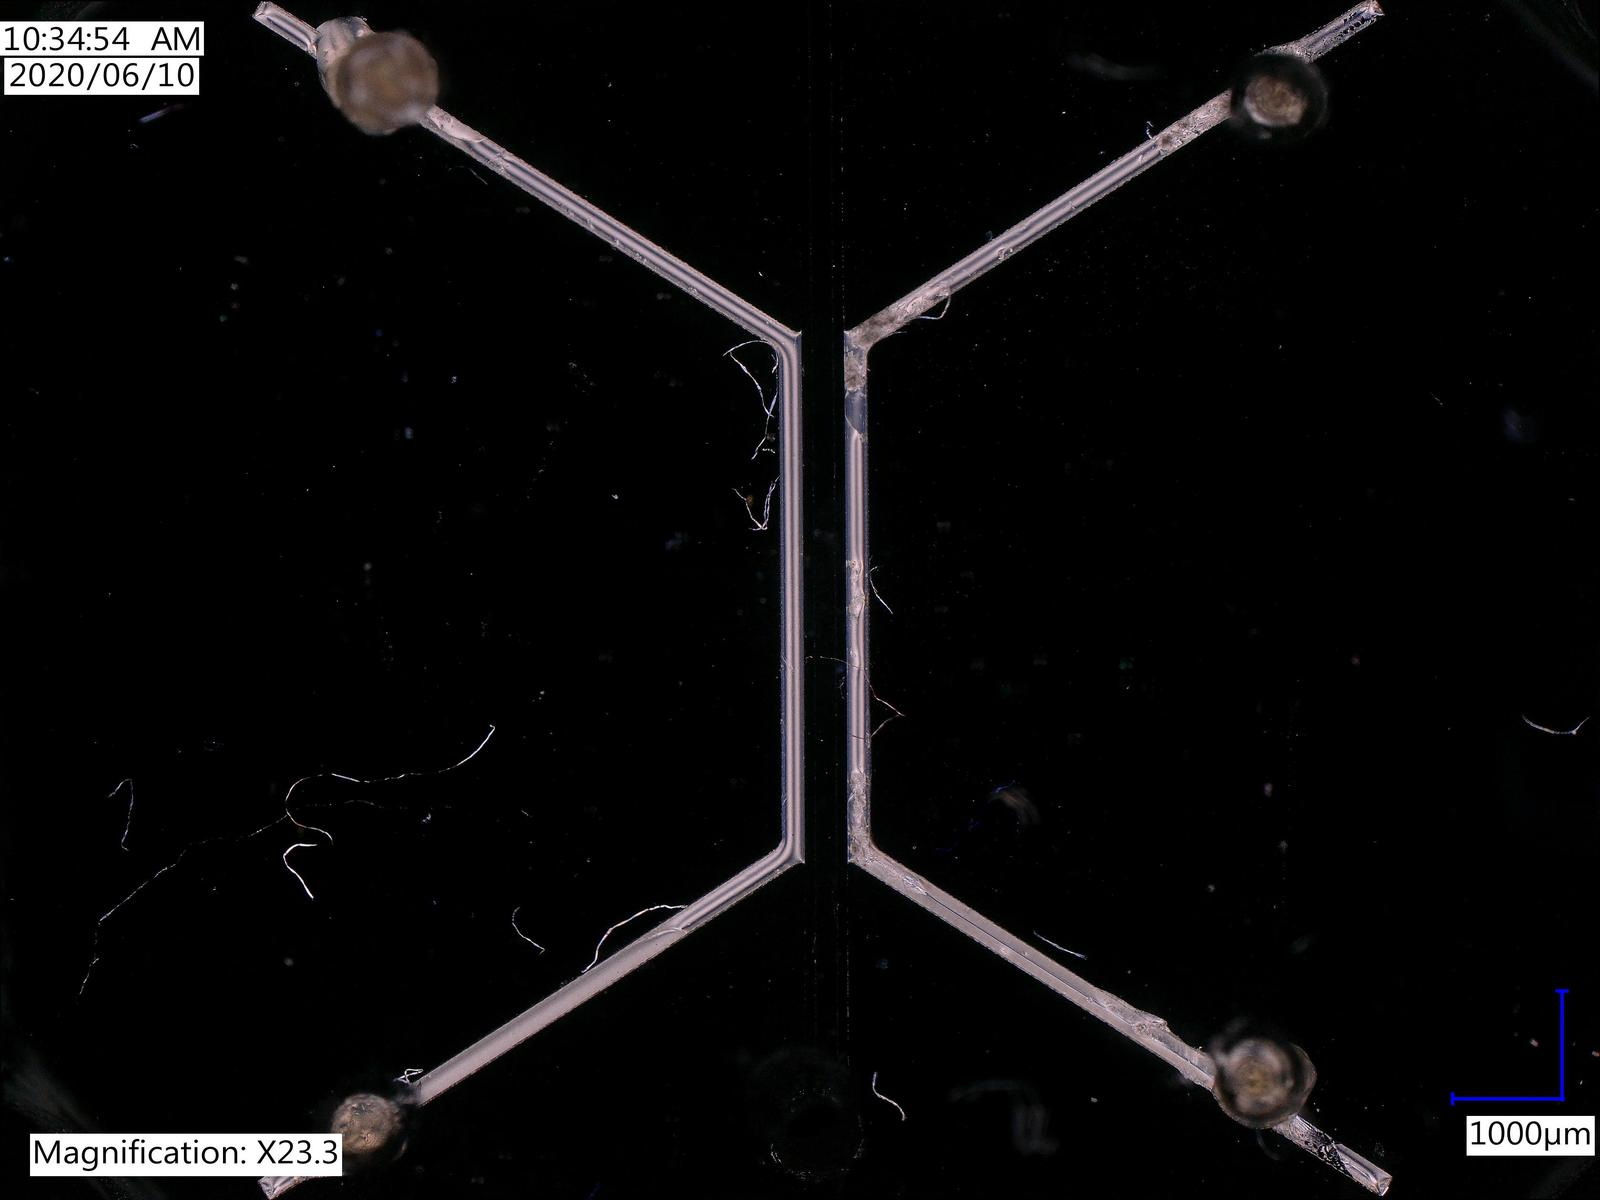sediment: (848, 304, 897, 342), (848, 771, 868, 858), (1159, 116, 1192, 150), (843, 349, 866, 393)
